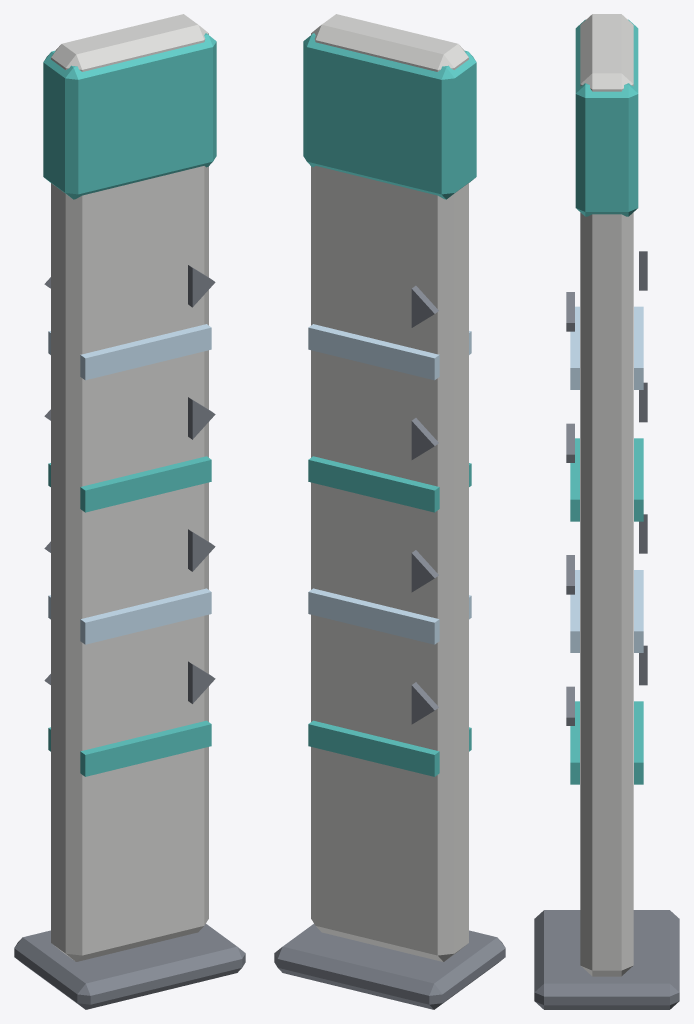
The model's file is medical-23639.glb.
The picture shows the model from 3 angles, left to right: view 1: azimuth 30°, elevation 25°; view 2: azimuth 150°, elevation 25°; view 3: azimuth 270°, elevation 25°; orthographic projection.
Visible parts, largest first — view 1: wayfinding-sign; view 2: wayfinding-sign; view 3: wayfinding-sign.
Part boxes in pixels (x1,y1,x2,y2): wayfinding-sign: (14, 14, 245, 1009); wayfinding-sign: (274, 14, 505, 1009); wayfinding-sign: (534, 14, 679, 1009).
Size of the model in its own units: 0.4001 by 2.12 by 0.3.
